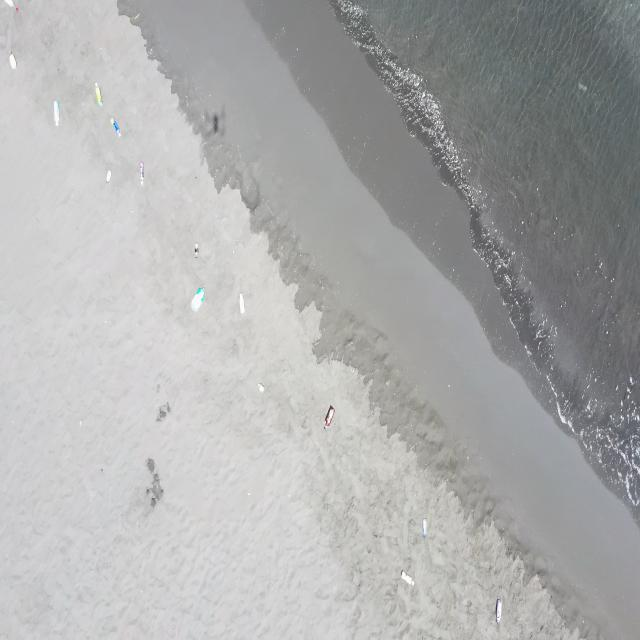plastic-bottle: (190, 284, 206, 311), (324, 406, 335, 431), (110, 116, 122, 138), (95, 80, 103, 108), (8, 49, 18, 71), (400, 570, 414, 585), (53, 100, 61, 126), (2, 0, 19, 12), (138, 160, 146, 185), (496, 599, 503, 626), (238, 292, 246, 315), (193, 241, 200, 261), (422, 518, 428, 539), (256, 382, 266, 394), (105, 169, 112, 183)
